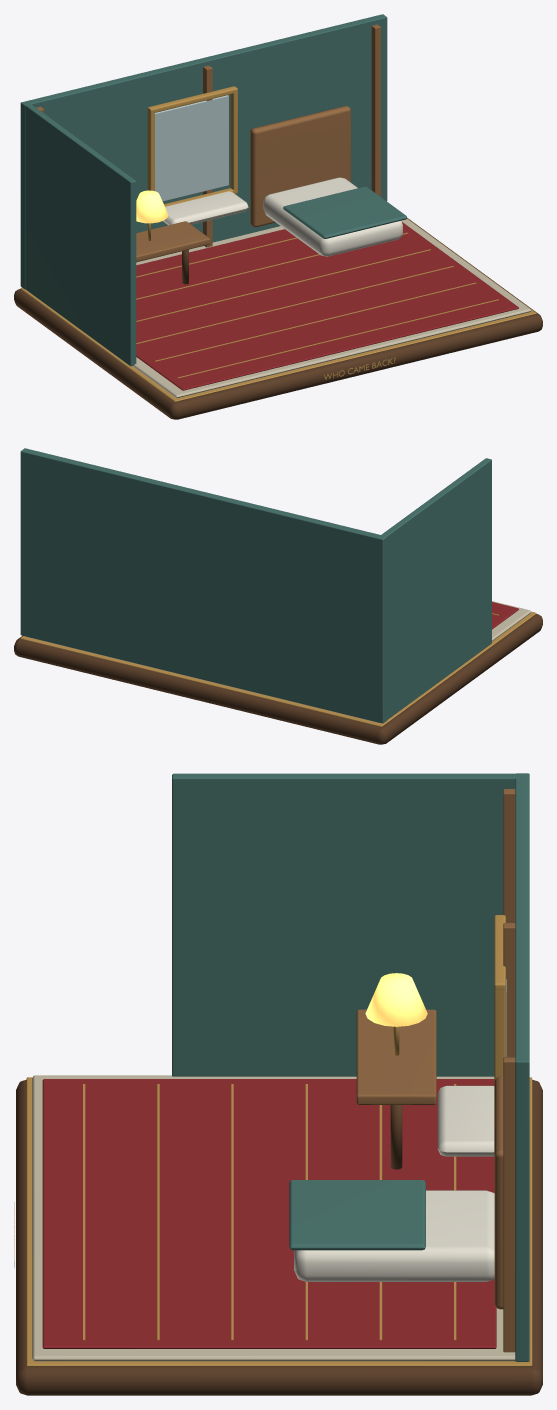
The model's file is mirror.glb.
3 renders of one model, top to bottom at view 1: azimuth 30°, elevation 25°; view 2: azimuth 150°, elevation 25°; view 3: azimuth 270°, elevation 25°, orthographic. The views are drawn at different scales.
Visible parts, largest first — view 1: Hotel carpet.001, Rear plaster wall.003, Cutaway side wall.003, Walnut display plinth.009, Bed headboard.001, Mirror silver, Stage floor.009, Bed mattress.001, Blanket.001, Inset brass rim.009, Writing desk.001, Wash basin (+10 smaller); view 2: Rear plaster wall.003, Cutaway side wall.003, Walnut display plinth.009, Inset brass rim.009, Stage floor.009, Hotel carpet.001; view 3: Hotel carpet.001, Cutaway side wall.003, Walnut display plinth.009, Stage floor.009, Bed mattress.001, Blanket.001, Rear plaster wall.003, Writing desk.001, Inset brass rim.009, Wash basin, Oak wall post.011, Lamp shade.001 (+9 smaller).
Part boxes in pixels (bbox=[...]): Hotel carpet.001: bbox=[136, 222, 518, 390]; Rear plaster wall.003: bbox=[20, 14, 387, 289]; Cutaway side wall.003: bbox=[25, 103, 136, 366]; Walnut display plinth.009: bbox=[14, 218, 542, 419]; Bed headboard.001: bbox=[250, 106, 350, 227]; Mirror silver: bbox=[155, 95, 228, 201]; Stage floor.009: bbox=[133, 219, 531, 397]; Bed mattress.001: bbox=[263, 177, 402, 256]; Blanket.001: bbox=[283, 186, 407, 238]; Inset brass rim.009: bbox=[20, 218, 536, 401]; Writing desk.001: bbox=[136, 221, 210, 262]; Wash basin: bbox=[163, 191, 248, 225]; Rear plaster wall.003: bbox=[20, 448, 387, 723]; Cutaway side wall.003: bbox=[380, 458, 491, 719]; Walnut display plinth.009: bbox=[14, 614, 542, 744]; Inset brass rim.009: bbox=[20, 611, 536, 726]; Stage floor.009: bbox=[26, 601, 530, 722]; Hotel carpet.001: bbox=[492, 602, 518, 629]; Hotel carpet.001: bbox=[42, 1079, 496, 1348]; Cutaway side wall.003: bbox=[172, 773, 521, 1076]; Walnut display plinth.009: bbox=[16, 1079, 542, 1395]; Stage floor.009: bbox=[32, 1075, 515, 1361]; Bed mattress.001: bbox=[294, 1190, 494, 1281]; Blanket.001: bbox=[289, 1180, 425, 1250]; Rear plaster wall.003: bbox=[515, 773, 529, 1361]; Writing desk.001: bbox=[356, 1009, 436, 1104]; Inset brass rim.009: bbox=[26, 1077, 532, 1366]; Wash basin: bbox=[437, 1085, 494, 1156]; Oak wall post.011: bbox=[503, 1057, 515, 1352]; Lamp shade.001: bbox=[365, 973, 427, 1026].
Bounding box in the file's own units: 7.2 × 3.78 × 5.42.
